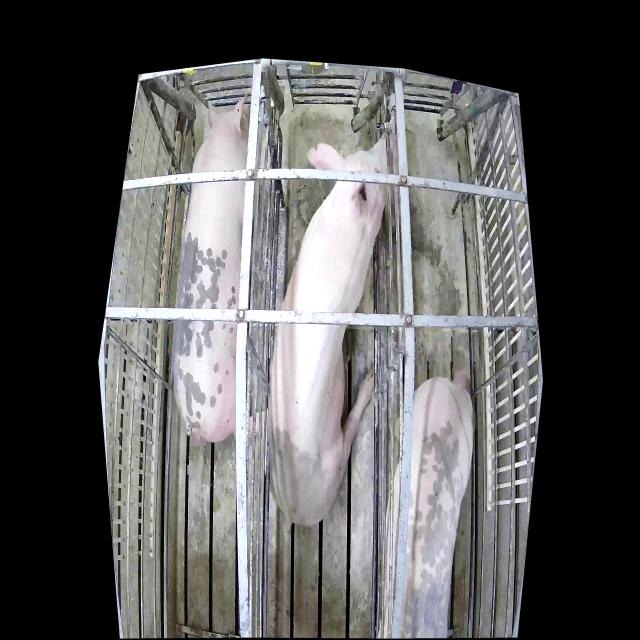pig: (269, 124, 398, 522), (174, 91, 250, 441), (378, 369, 473, 637)
